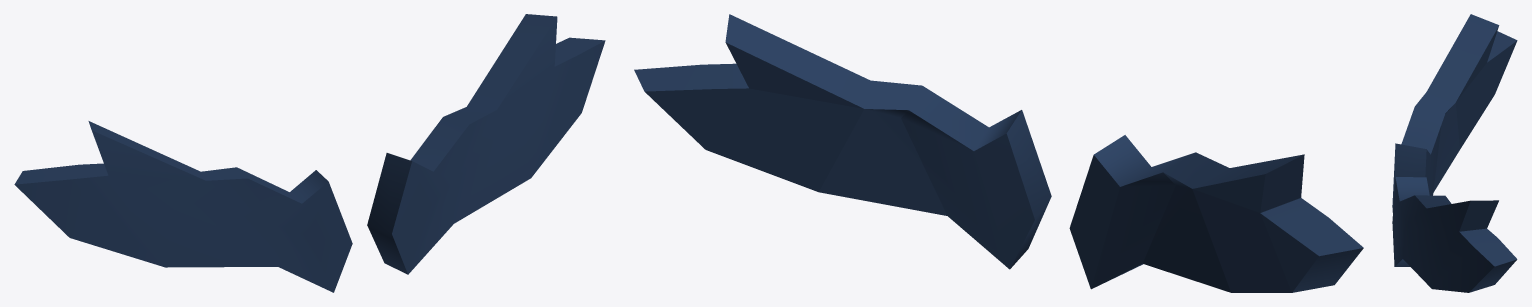
Rendered from Brow_Blue_12.fbx.
The picture shows the model from 3 angles, left to right: view 1: azimuth 30°, elevation 25°; view 2: azimuth 150°, elevation 25°; view 3: azimuth 270°, elevation 25°; orthographic projection. The views are drawn at different scales.
Visible parts, largest first — view 1: Brow_Blue_12; view 2: Brow_Blue_12; view 3: Brow_Blue_12.
Part boxes in pixels (x1,y1,x2,y2): Brow_Blue_12: [14, 14, 605, 292]; Brow_Blue_12: [634, 14, 1363, 292]; Brow_Blue_12: [1392, 14, 1517, 292].
Bounding box in the file's own units: 50.7 × 14.59 × 11.32.
